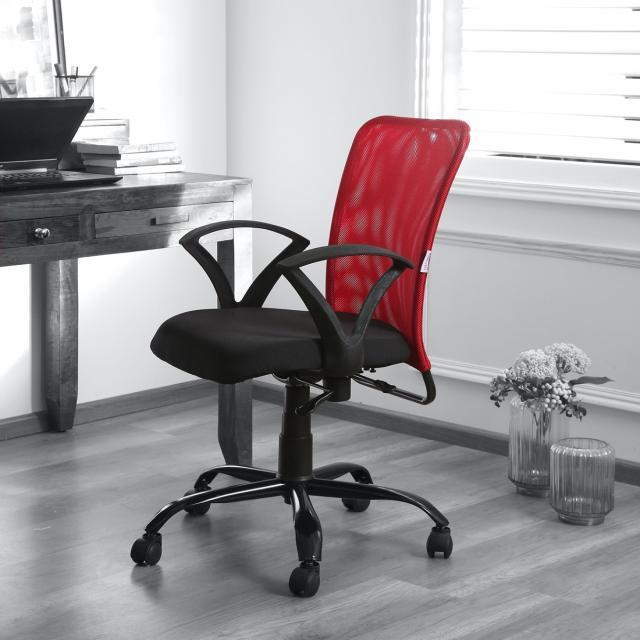chair: (108, 101, 501, 609)
